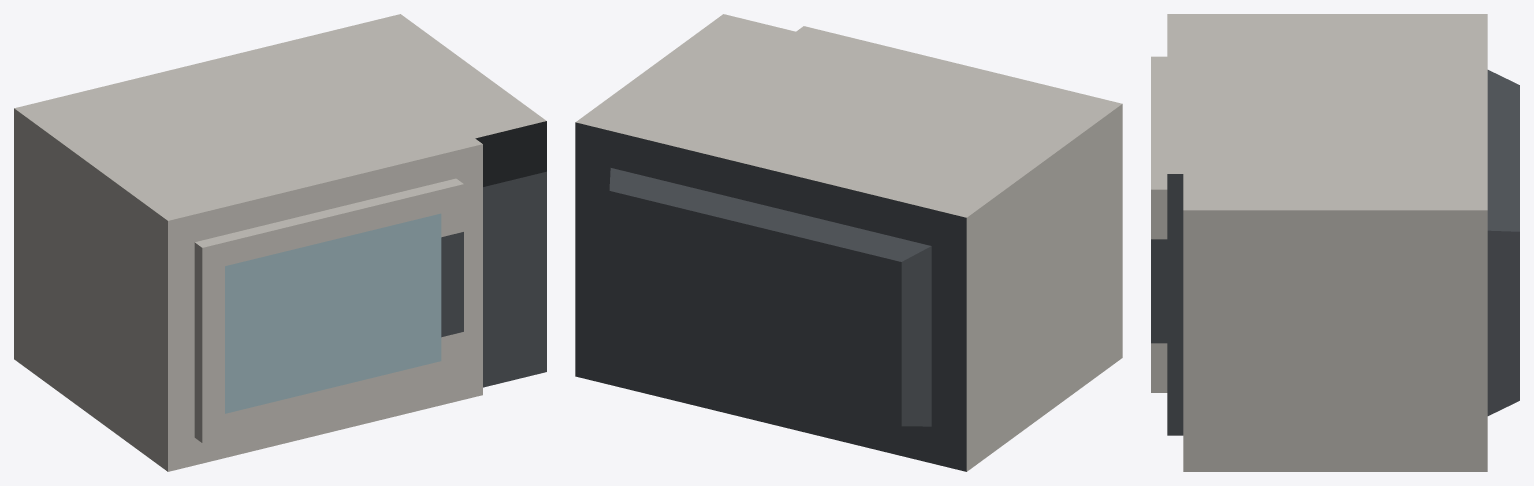
File: microwave.glb
3 renders of one model, left to right at view 1: azimuth 30°, elevation 25°; view 2: azimuth 150°, elevation 25°; view 3: azimuth 270°, elevation 25°, orthographic. The views are drawn at different scales.
Visible parts, largest first — view 1: microwave; view 2: microwave; view 3: microwave.
Part boxes in pixels (x1=…): microwave: x1=14, y1=14, x2=546, y2=471; microwave: x1=575, y1=14, x2=1122, y2=471; microwave: x1=1151, y1=14, x2=1519, y2=471.
Bounding box in the file's own units: 0.5 × 0.3103 × 0.3966.
